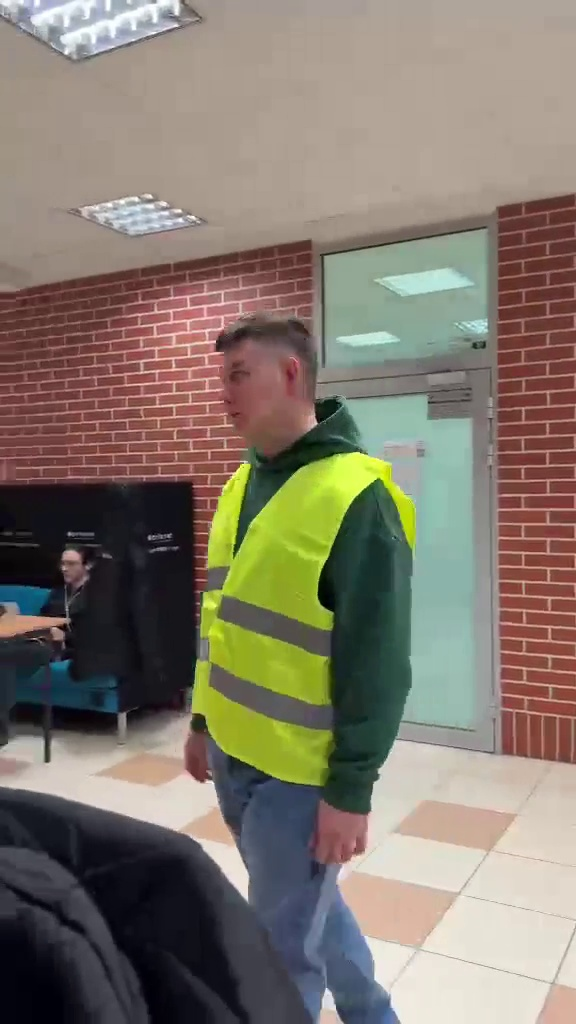vest: (184, 320, 433, 1021)
